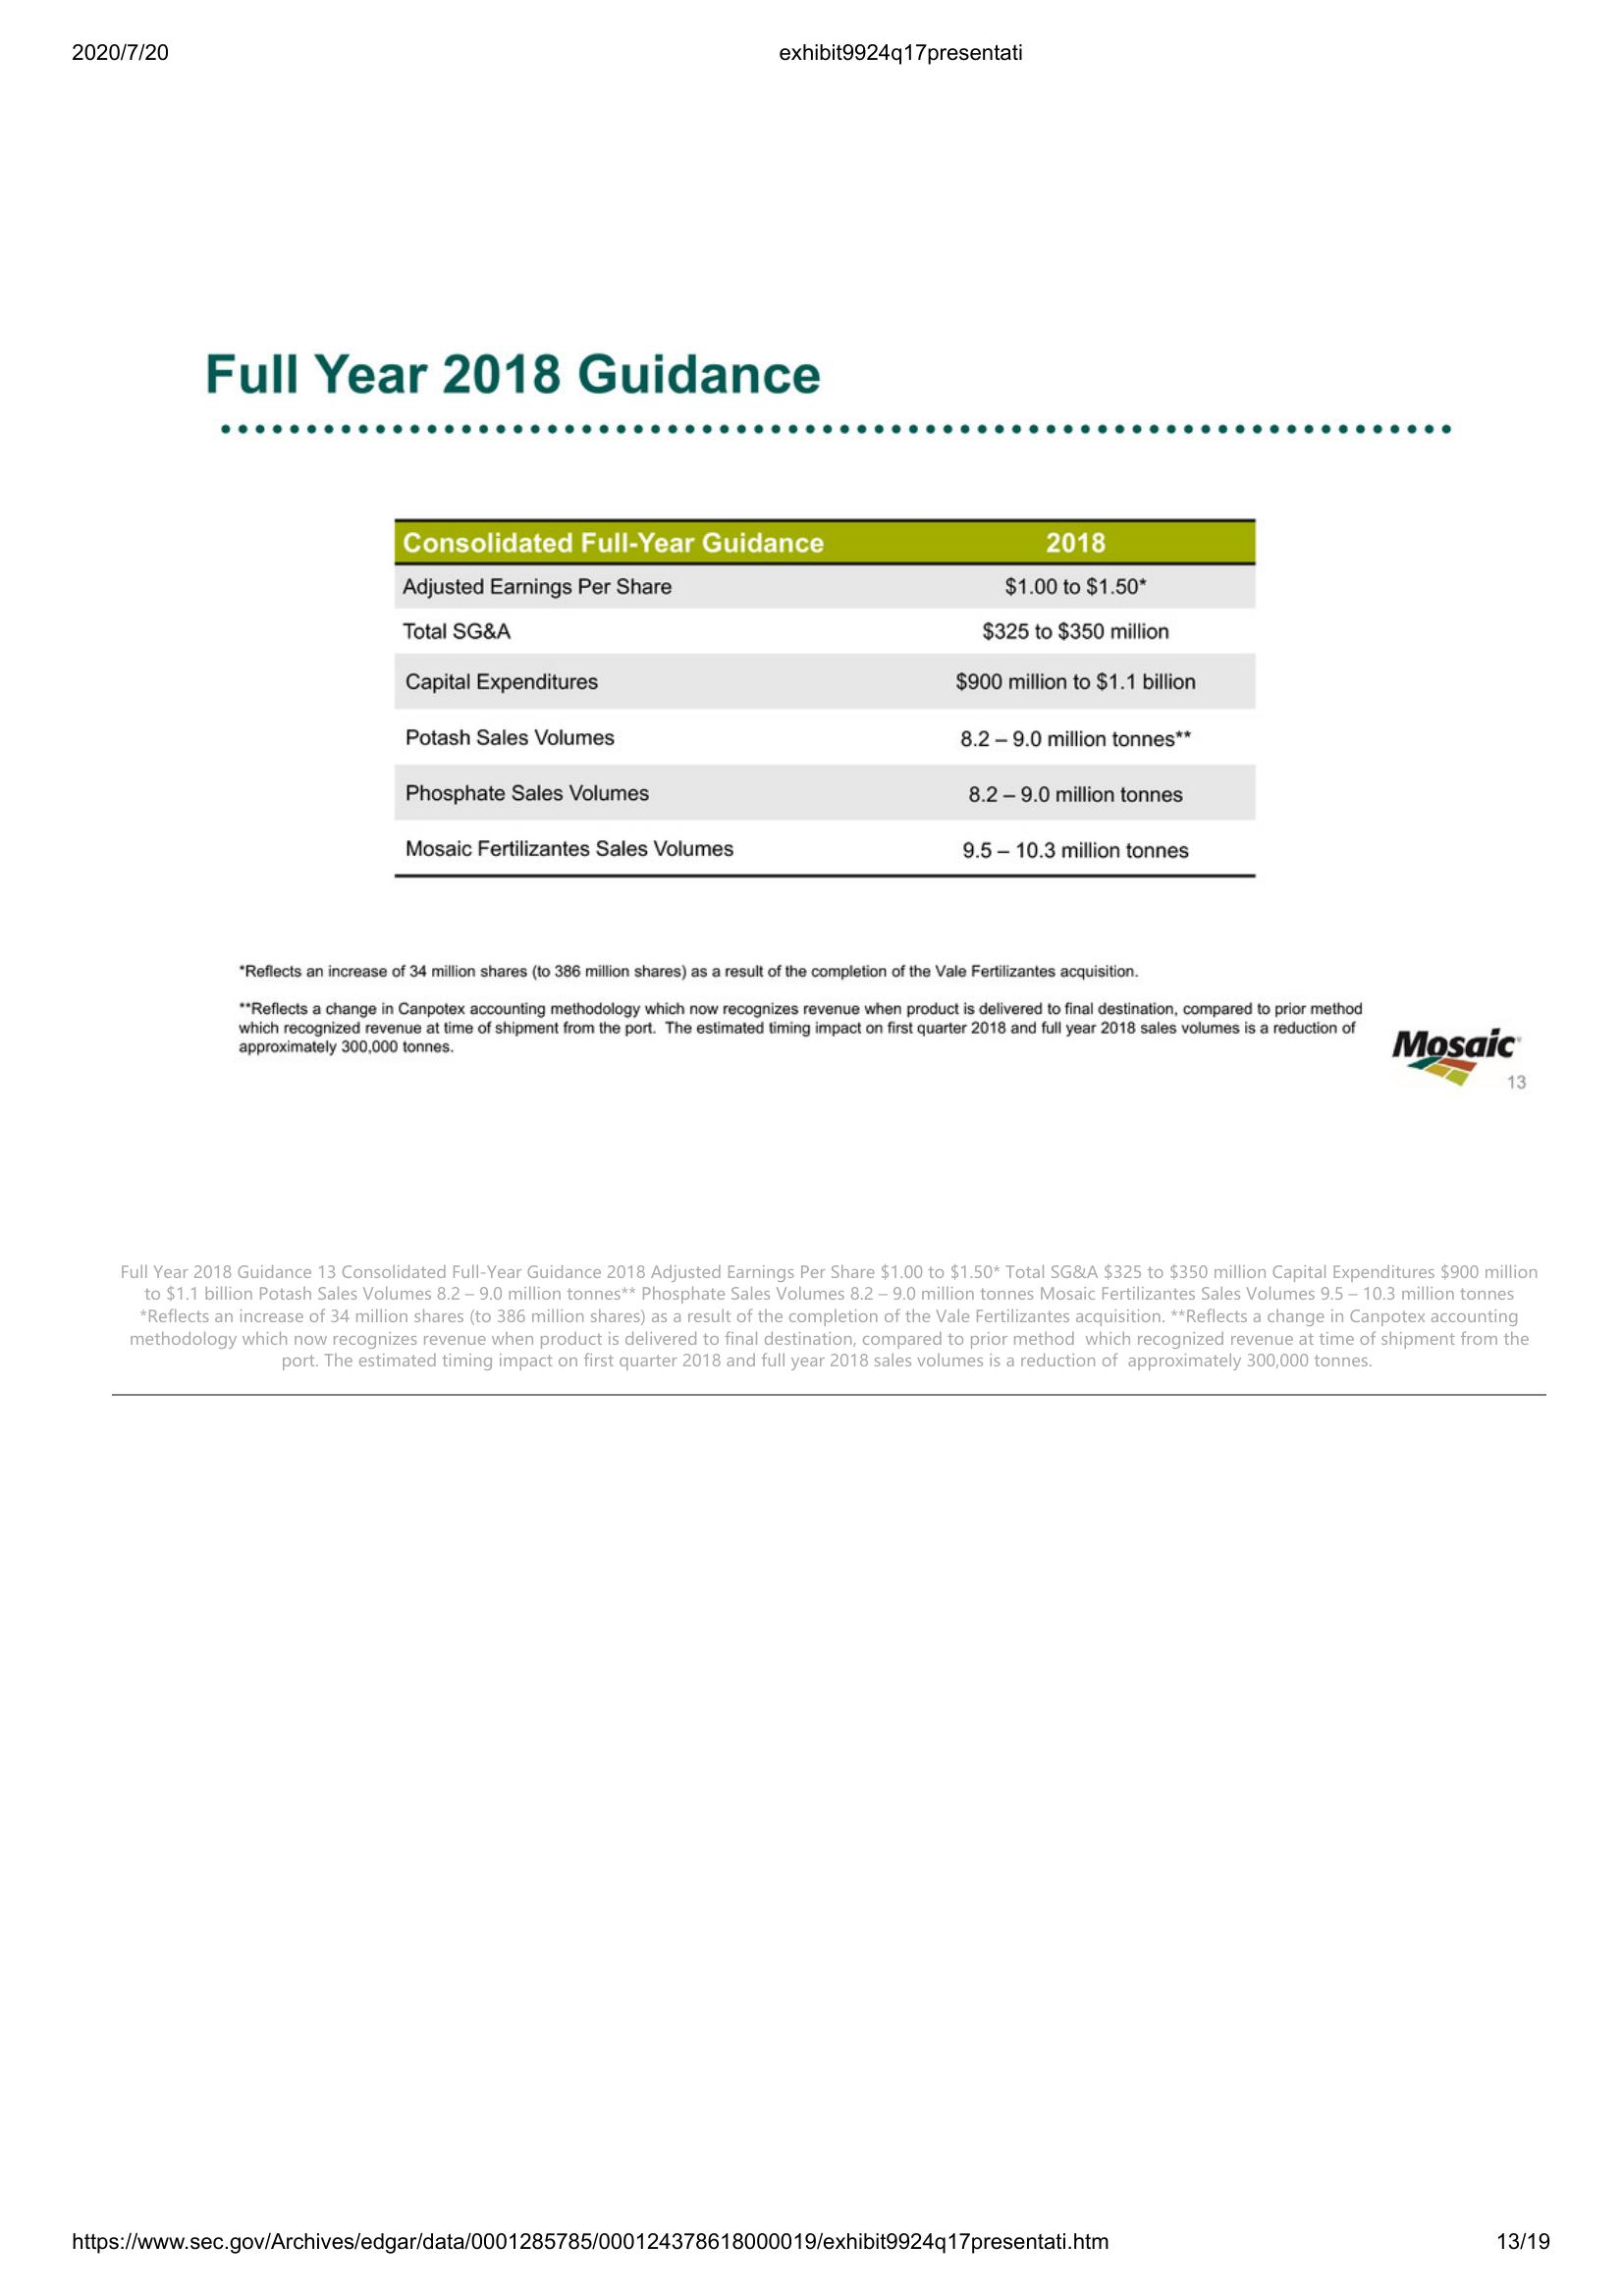table: (388, 506, 1268, 885)
